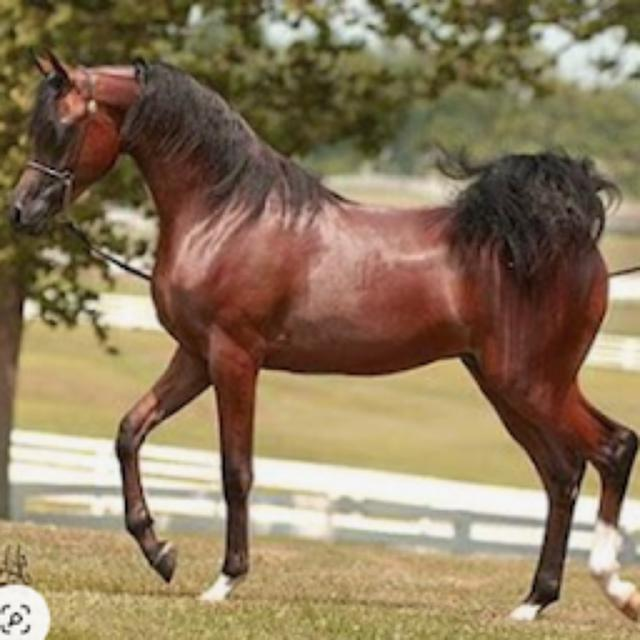Horse: (2, 42, 640, 630)
